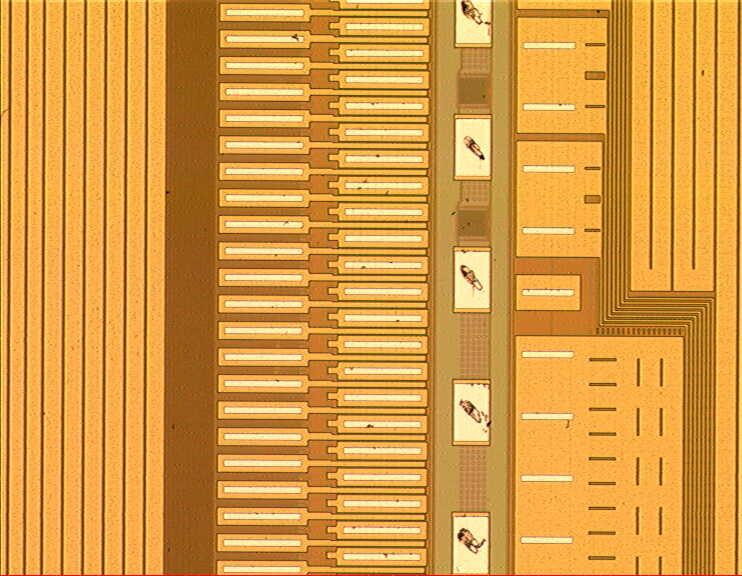PO CONTAMINATION: (1, 2, 709, 575)
